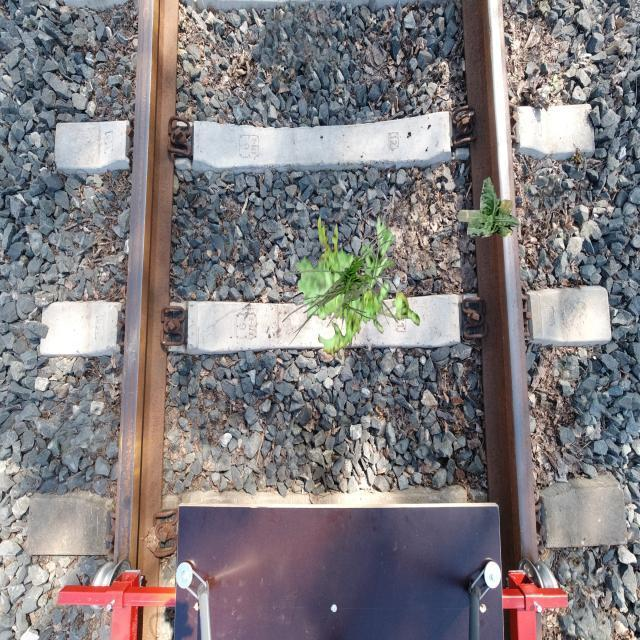Plant: (295, 213, 420, 360), (282, 223, 400, 346), (456, 176, 520, 238)
